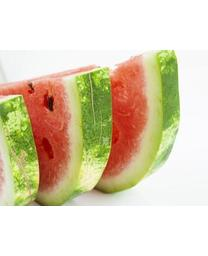watermelon: (0, 51, 181, 203)
